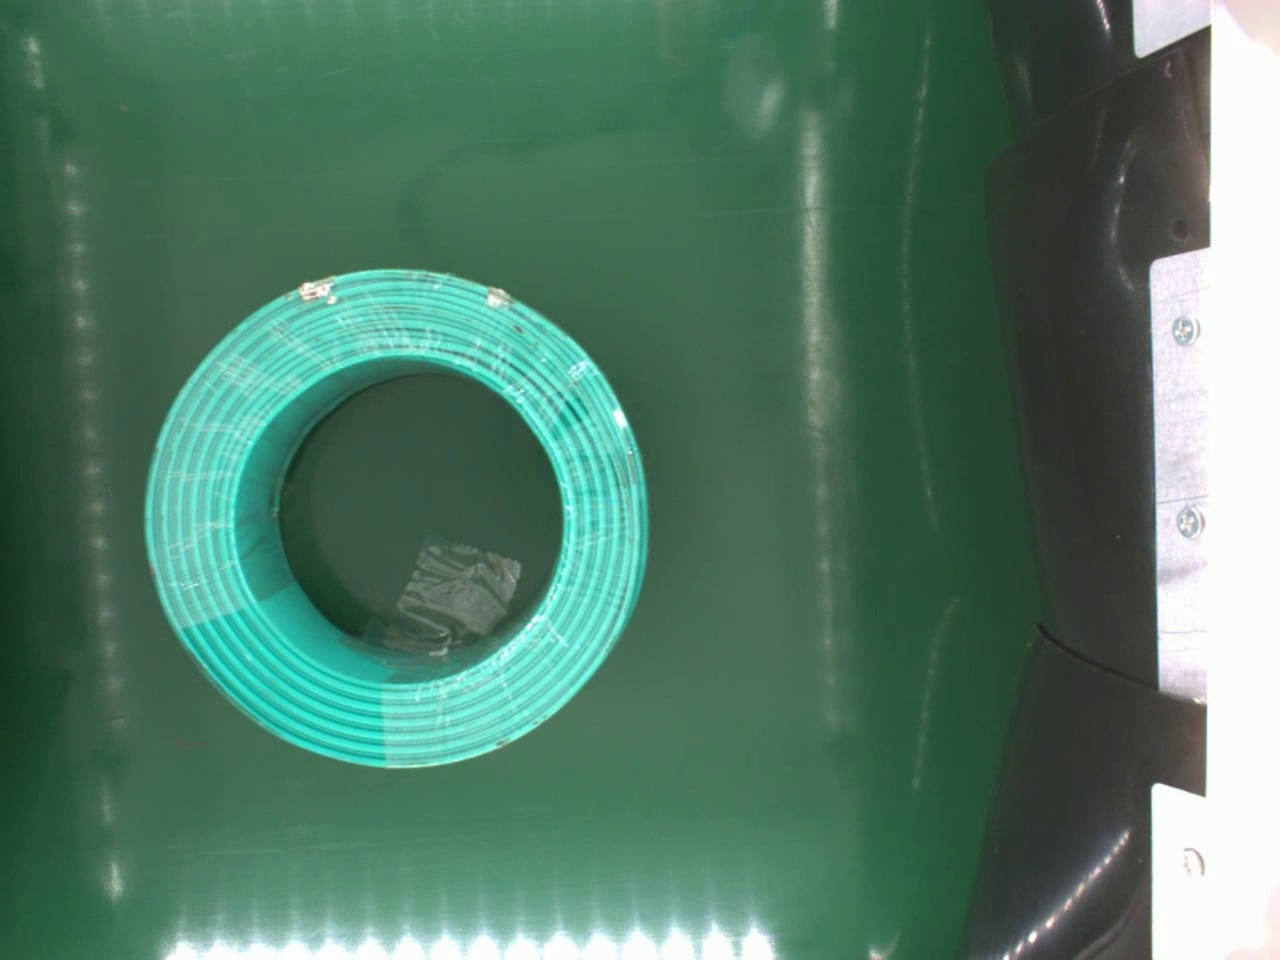green: (143, 266, 655, 772)
